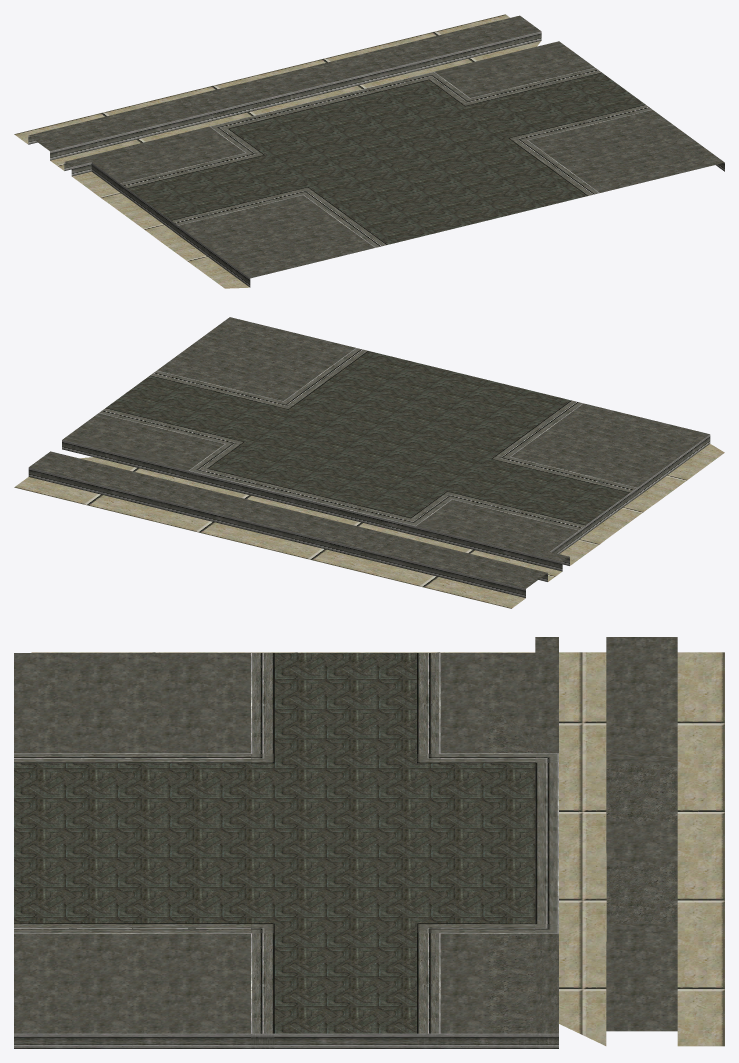
File: DWARF_PALACE_MAINHALL_FLOOR04.fbx
The picture shows the model from 3 angles, top to bottom: view 1: azimuth 30°, elevation 25°; view 2: azimuth 150°, elevation 25°; view 3: azimuth 270°, elevation 25°; orthographic projection. The views are drawn at different scales.
Visible parts, largest first — view 1: DWARF_PALACE_MAINHALL_FLOOR04; view 2: DWARF_PALACE_MAINHALL_FLOOR04; view 3: DWARF_PALACE_MAINHALL_FLOOR04.
Part boxes in pixels (<box>): DWARF_PALACE_MAINHALL_FLOOR04: <box>14,14,724,288</box>; DWARF_PALACE_MAINHALL_FLOOR04: <box>14,317,724,608</box>; DWARF_PALACE_MAINHALL_FLOOR04: <box>14,637,724,1048</box>.
Size of the model in its own units: 396127 by 7129 by 300000.
7 materials, 7 textured.
